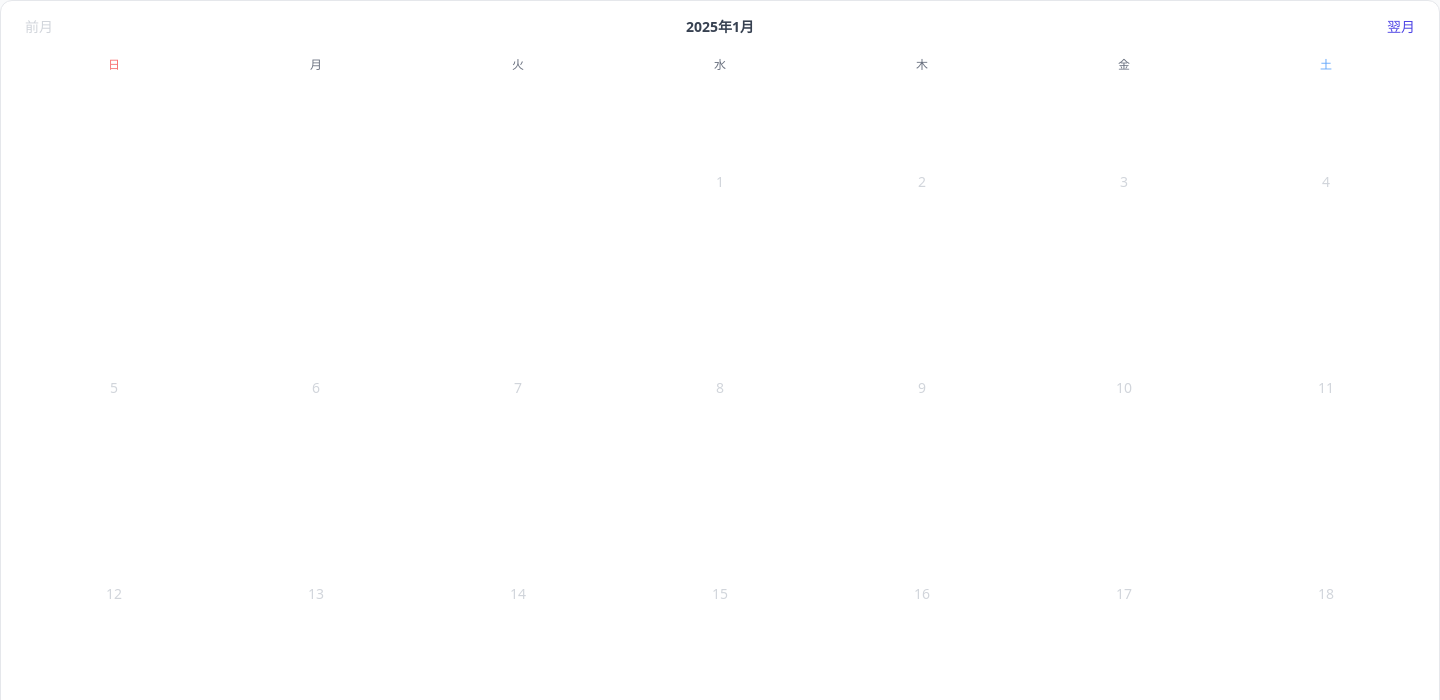
Scenario: DayOffCalendar › 翌月ボタンは終了月で非活性になる
# 翌月ボタンを押して終了月（2025-02）に移動
Click the button "翌月" at [1401, 27], box [1375, 13, 1427, 41]
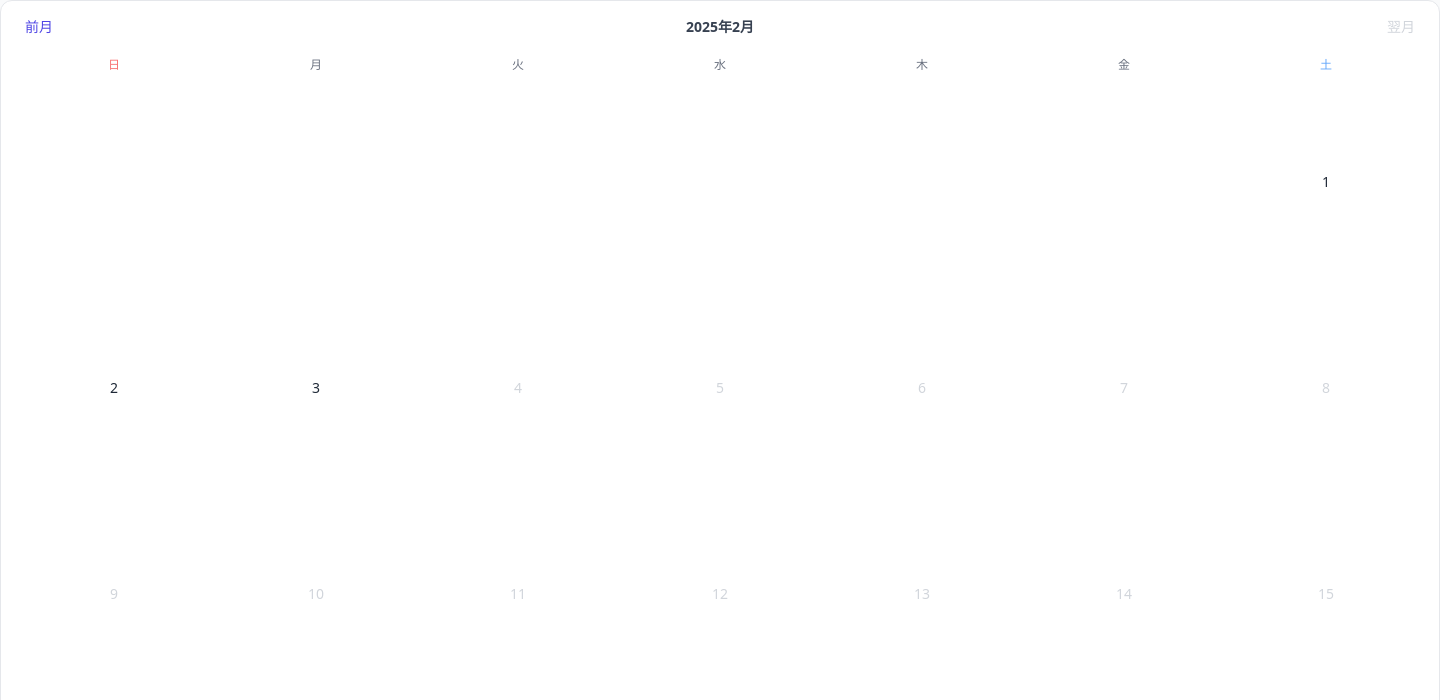
Check: the button "翌月" is disabled, box [1375, 13, 1427, 41]
